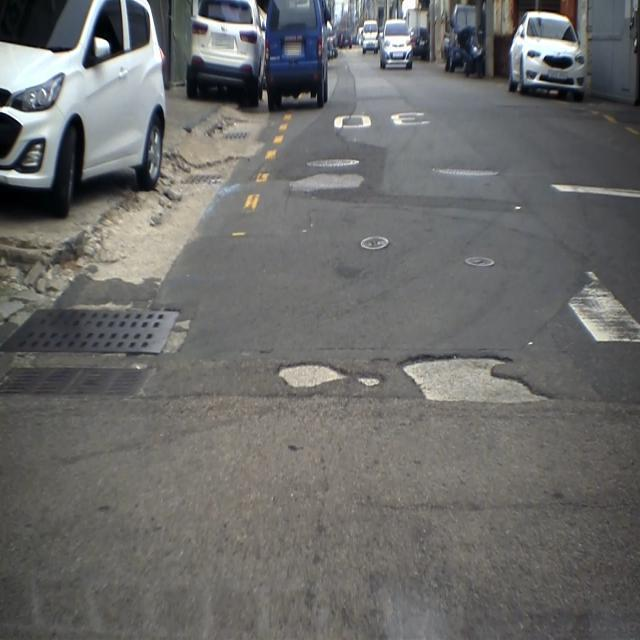pothole: (389, 345, 563, 412), (272, 355, 354, 398), (355, 368, 385, 396)
